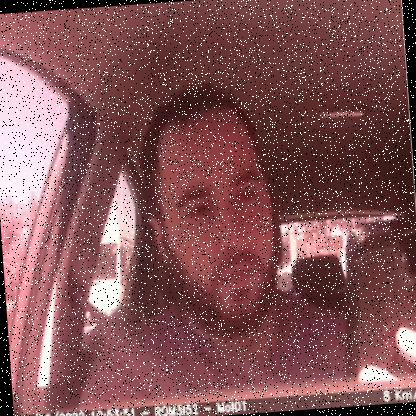phone: (338, 212, 415, 390)
